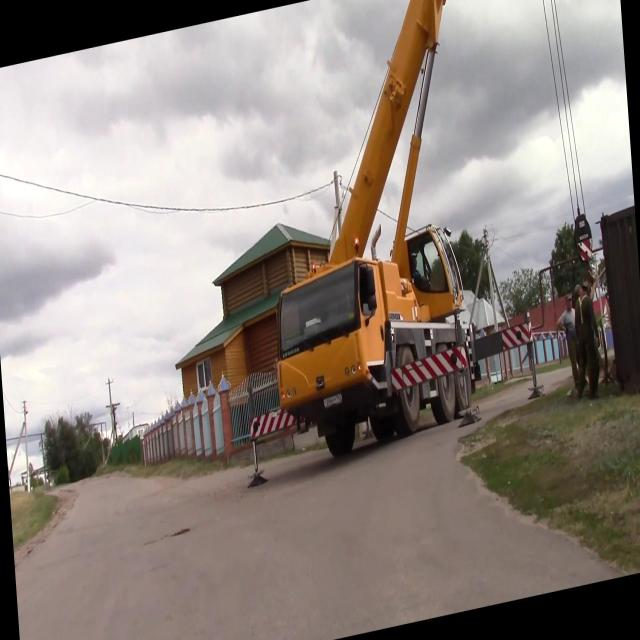crane: (215, 0, 548, 487)
